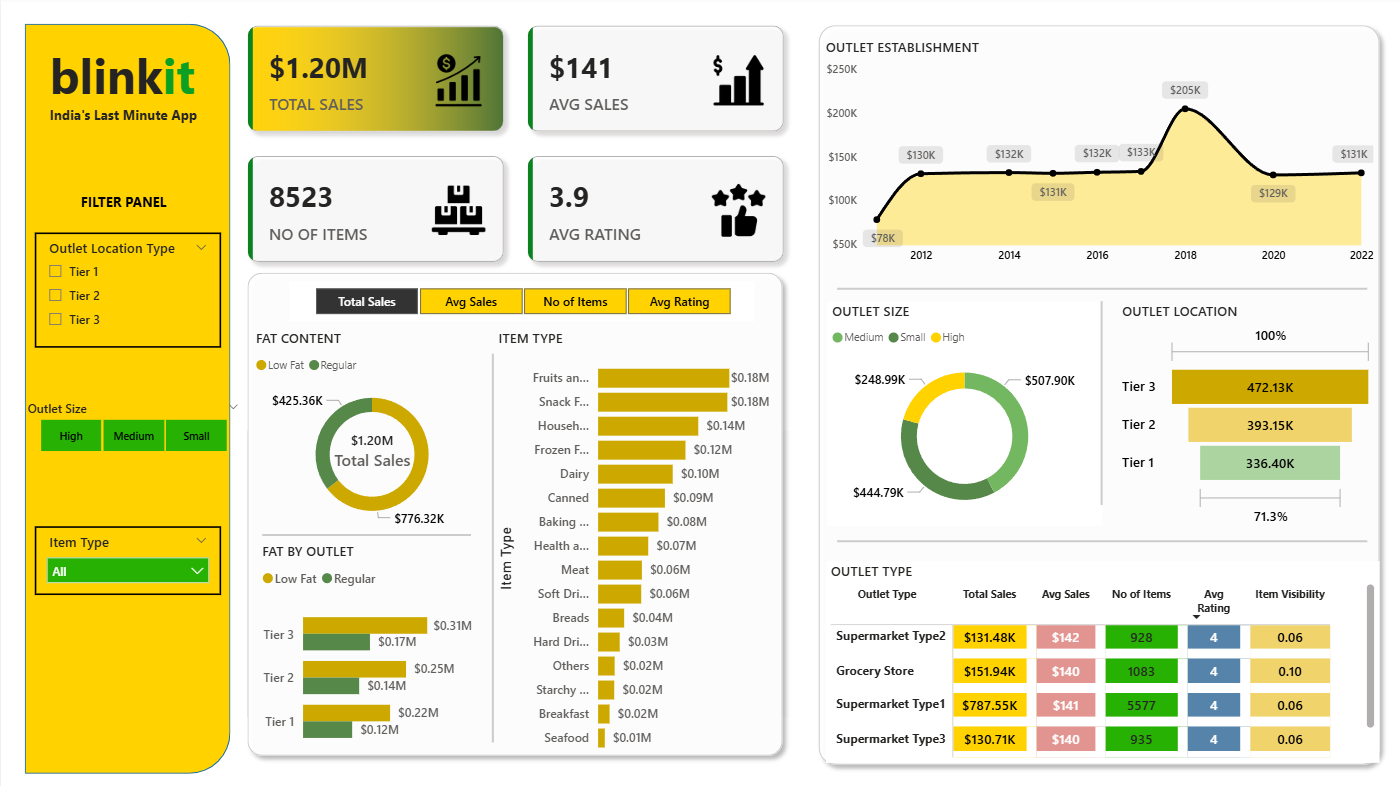

What the dashboard file says about the page in this screenshot:
{"tool":"powerbi","page":{"name":"Page 1","canvas":[1400,800],"ordinal":0},"visuals":[{"type":"shape","box":[24.3,24.3,205.7,750],"z":0},{"type":"textbox","box":[43.8,37.5,165,80],"z":1000},{"type":"textbox","box":[43.8,101.2,165,32.5],"z":2000},{"type":"cardVisual","fields":{"Data":["BlinkIT Grocery Data.Total Sales","BlinkIT Grocery Data.Avg Sales","BlinkIT Grocery Data.No of Items","BlinkIT Grocery Data.Avg Rating"]},"box":[230,8.8,570,270],"z":3000},{"type":"shape","box":[238,264,553,501],"z":4000},{"type":"donutChart","title":"FAT CONTENT","fields":{"Y":["BlinkIT Grocery Data.Total Sales"],"Category":["BlinkIT Grocery Data.Item Fat Content"]},"box":[250,328.8,242.5,206.2],"z":5000},{"type":"slicer","fields":{"Values":["Metrics.Metrics"]},"box":[288.8,281.2,465,40],"z":6000},{"type":"cardVisual","fields":{"Data":["BlinkIT Grocery Data.Total Sales"]},"box":[311.2,413.8,120,70],"z":7000},{"type":"clusteredBarChart","title":"FAT BY OUTLET","fields":{"Y":["BlinkIT Grocery Data.Total Sales"],"Category":["BlinkIT Grocery Data.Outlet Location Type"],"Series":["BlinkIT Grocery Data.Item Fat Content"]},"box":[256.2,541.2,220,221.2],"z":8000},{"type":"shape","box":[261.2,517.5,208.8,35],"z":9000},{"type":"shape","box":[462.5,353.8,58.8,388.8],"z":10000},{"type":"barChart","title":"ITEM TYPE","fields":{"Y":["BlinkIT Grocery Data.Total Sales"],"Category":["BlinkIT Grocery Data.Item Type"]},"box":[492.5,328.8,281.2,433.8],"z":11000},{"type":"shape","box":[808.8,16.2,578.8,757.5],"z":12000},{"type":"lineChart","title":"OUTLET ESTABLISHMENT","fields":{"Category":["BlinkIT Grocery Data.Outlet Establishment Year"],"Y":["BlinkIT Grocery Data.Total Sales"]},"box":[820,37.5,557.5,235],"z":13000},{"type":"shape","box":[836.2,271.2,530,35],"z":14000},{"type":"donutChart","title":"OUTLET SIZE","fields":{"Y":["BlinkIT Grocery Data.Total Sales"],"Category":["BlinkIT Grocery Data.Outlet Size"]},"box":[826.2,301.2,275,225],"z":15000},{"type":"shape","box":[1071.2,301.2,58.8,203.8],"z":16000},{"type":"funnel","title":"OUTLET LOCATION","fields":{"Category":["BlinkIT Grocery Data.Outlet Location Type"],"Y":["Sum(BlinkIT Grocery Data.Sales)"]},"box":[1116.2,301.2,261.2,230],"z":17000},{"type":"shape","box":[836.2,523.8,530,35],"z":18000},{"type":"pivotTable","title":"OUTLET TYPE","fields":{"Rows":["BlinkIT Grocery Data.Outlet Type"],"Values":["BlinkIT Grocery Data.Total Sales","BlinkIT Grocery Data.Avg Sales","BlinkIT Grocery Data.No of Items","BlinkIT Grocery Data.Avg Rating","Avg(BlinkIT Grocery Data.Item Visibility)"]},"box":[825,561.2,553.8,201.2],"z":19000},{"type":"slicer","fields":{"Values":["BlinkIT Grocery Data.Outlet Location Type"]},"box":[34,232,186,115],"z":20000},{"type":"slicer","fields":{"Values":["BlinkIT Grocery Data.Outlet Size"]},"box":[14,395,236,63],"z":21000},{"type":"slicer","fields":{"Values":["BlinkIT Grocery Data.Item Type"]},"box":[34,526,186,69],"z":22000},{"type":"textbox","box":[75,187,103,34],"z":23000}]}

Visuals, with their boxes in screenshot pixels (x1, y1, x2, y2), scaled from the page's 1400x800 canvas onto the 1400x786 screenshot:
shape: (x1=24, y1=24, x2=230, y2=761)
textbox: (x1=44, y1=37, x2=209, y2=115)
textbox: (x1=44, y1=99, x2=209, y2=131)
cardVisual - BlinkIT Grocery Data.Total Sales x BlinkIT Grocery Data.Avg Sales: (x1=230, y1=9, x2=800, y2=274)
shape: (x1=238, y1=259, x2=791, y2=752)
"FAT CONTENT" donutChart: (x1=250, y1=323, x2=492, y2=526)
slicer - Metrics.Metrics: (x1=289, y1=276, x2=754, y2=316)
cardVisual - BlinkIT Grocery Data.Total Sales: (x1=311, y1=407, x2=431, y2=475)
"FAT BY OUTLET" clusteredBarChart: (x1=256, y1=532, x2=476, y2=749)
shape: (x1=261, y1=508, x2=470, y2=543)
shape: (x1=462, y1=348, x2=521, y2=730)
"ITEM TYPE" barChart: (x1=492, y1=323, x2=774, y2=749)
shape: (x1=809, y1=16, x2=1388, y2=760)
"OUTLET ESTABLISHMENT" lineChart: (x1=820, y1=37, x2=1378, y2=268)
shape: (x1=836, y1=266, x2=1366, y2=301)
"OUTLET SIZE" donutChart: (x1=826, y1=296, x2=1101, y2=517)
shape: (x1=1071, y1=296, x2=1130, y2=496)
"OUTLET LOCATION" funnel: (x1=1116, y1=296, x2=1377, y2=522)
shape: (x1=836, y1=515, x2=1366, y2=549)
"OUTLET TYPE" pivotTable: (x1=825, y1=551, x2=1379, y2=749)
slicer - BlinkIT Grocery Data.Outlet Location Type: (x1=34, y1=228, x2=220, y2=341)
slicer - BlinkIT Grocery Data.Outlet Size: (x1=14, y1=388, x2=250, y2=450)
slicer - BlinkIT Grocery Data.Item Type: (x1=34, y1=517, x2=220, y2=585)
textbox: (x1=75, y1=184, x2=178, y2=217)
